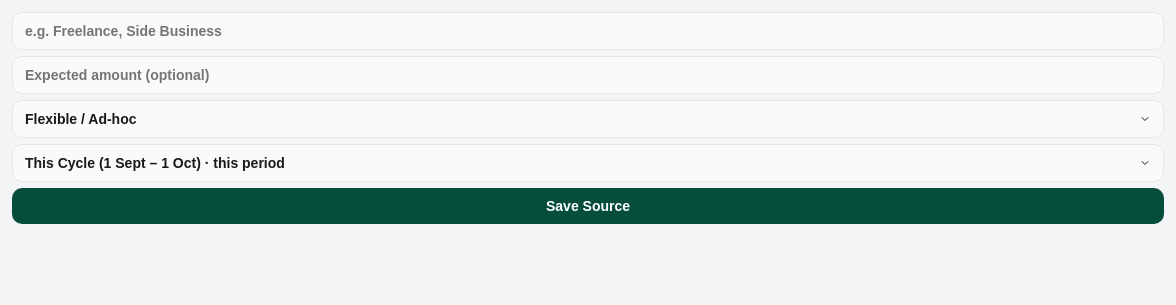
Scenario: AddIncomeSourceForm › rejects an out-of-range day for a fixed-date source
Type "Salary" into the field with test id "new-source-label".
click(588, 31); type("Salary")  # box left=12, top=12, right=1164, bottom=50
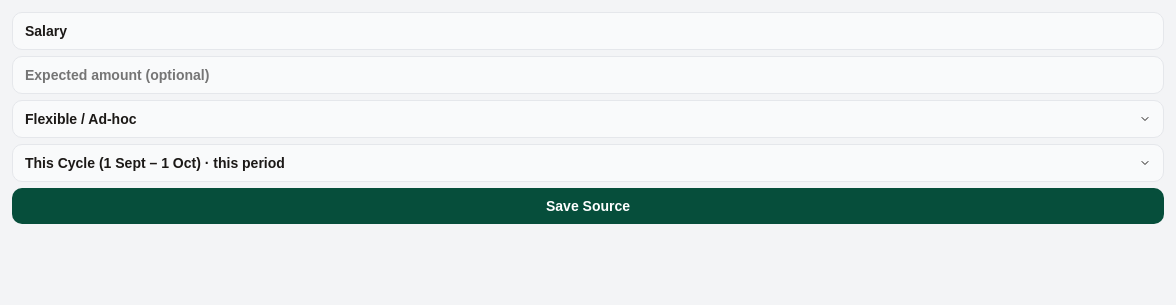
Select "Fixed date each month" in the dropdown with test id "new-source-pay-day-type" at (588,119), box left=12, top=100, right=1164, bottom=138
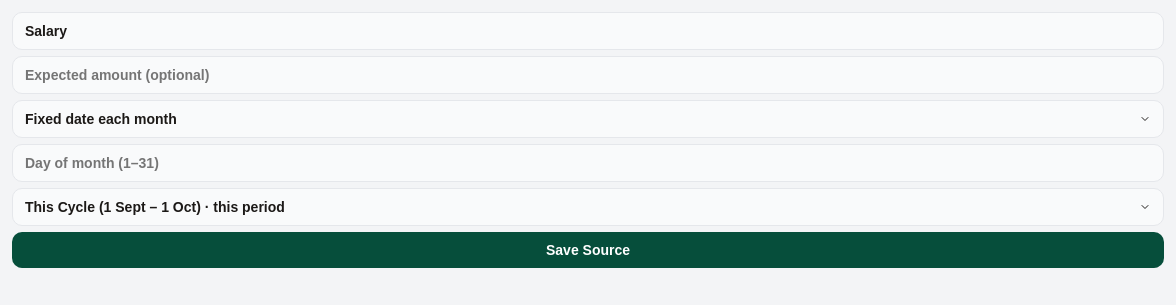
Type "45" into the number field with test id "new-source-pay-day".
click(588, 163); type("45")  # box left=12, top=144, right=1164, bottom=182
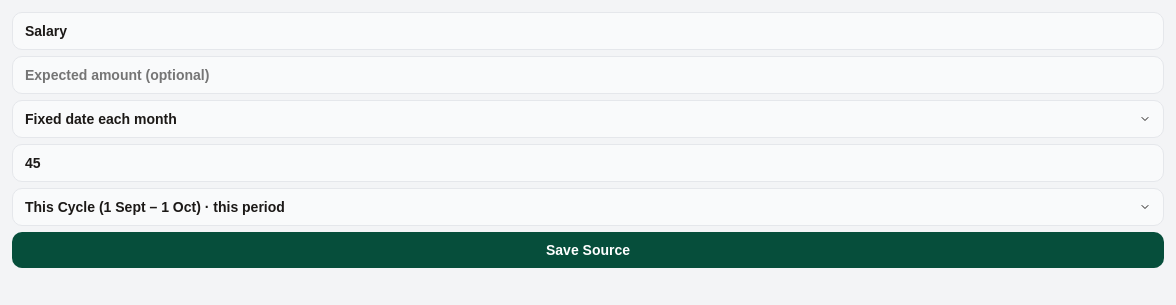
Click the button with test id "save-income-source-btn".
click(588, 250)  # box left=12, top=232, right=1164, bottom=268
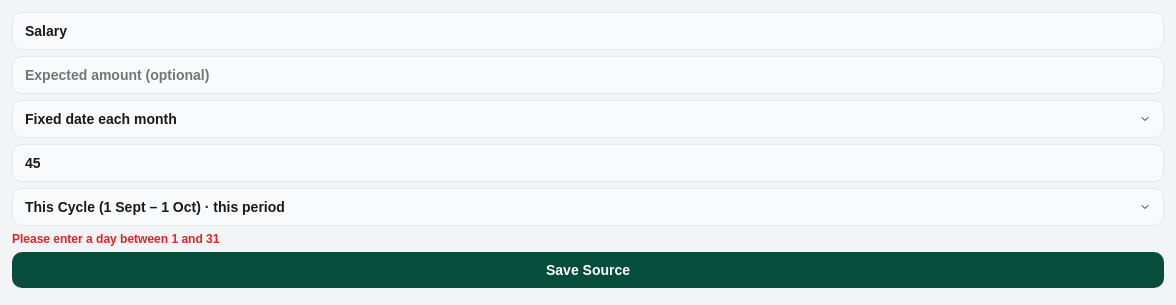
Now the text "Please enter a day between 1 and 31" is shown, box left=12, top=232, right=219, bottom=246
